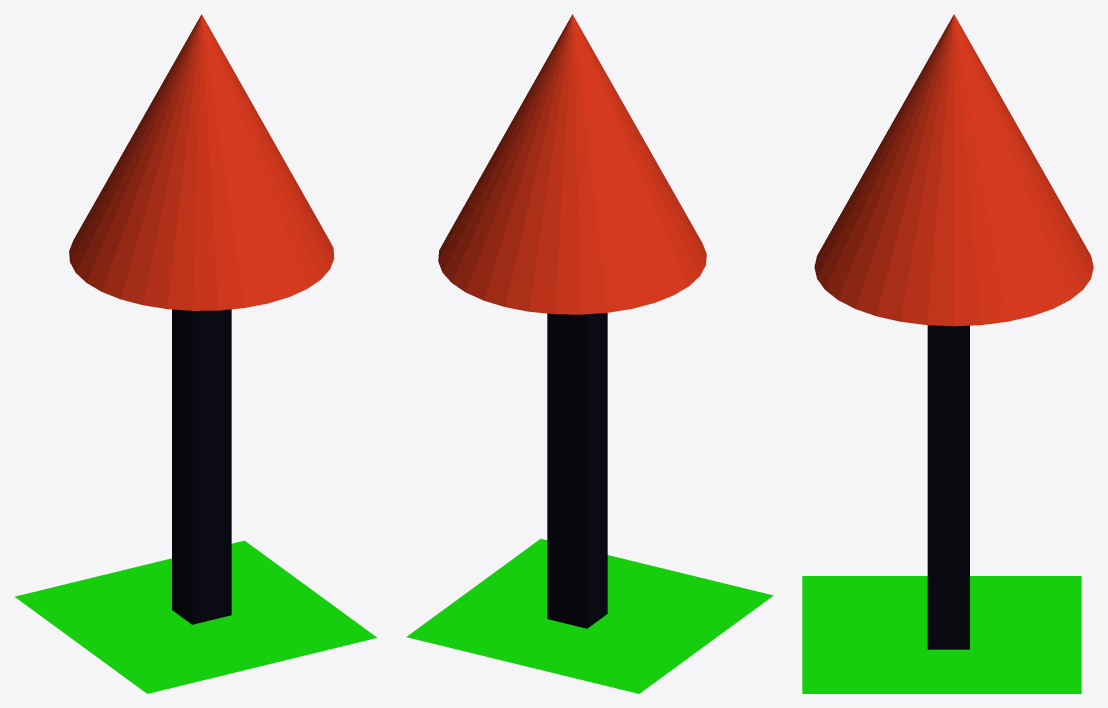
Rendered from chapeu_do_sol.glb.
3 renders of one model, left to right at view 1: azimuth 30°, elevation 25°; view 2: azimuth 150°, elevation 25°; view 3: azimuth 270°, elevation 25°, orthographic. The views are drawn at different scales.
Visible parts, largest first — view 1: Cone, Plano, Cubo; view 2: Cone, Plano, Cubo; view 3: Cone, Plano, Cubo.
Part boxes in pixels (bbox=[...]): Cone: bbox=[69, 14, 334, 310]; Plano: bbox=[15, 540, 377, 693]; Cubo: bbox=[172, 309, 231, 624]; Cone: bbox=[438, 14, 706, 314]; Plano: bbox=[406, 538, 773, 693]; Cubo: bbox=[547, 313, 607, 628]; Cone: bbox=[814, 14, 1093, 326]; Plano: bbox=[802, 576, 1081, 693]; Cubo: bbox=[927, 325, 969, 649].
Bounding box in the file's own units: 2.1 × 4.95 × 2.09.
